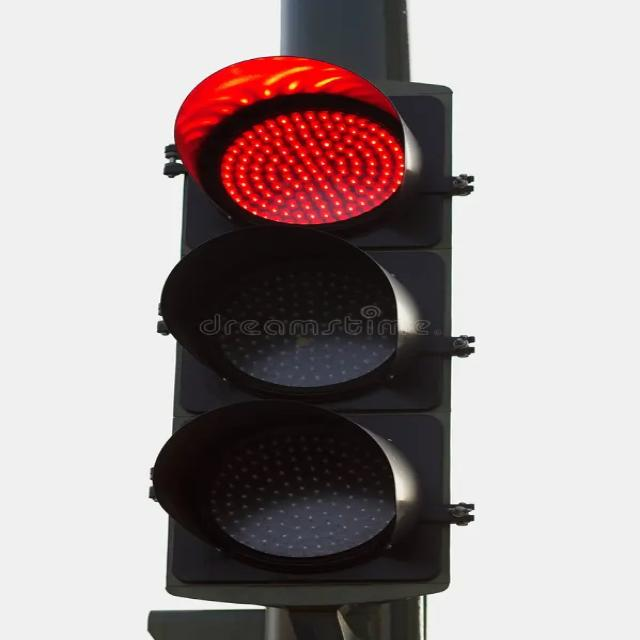red: (183, 78, 425, 227)
